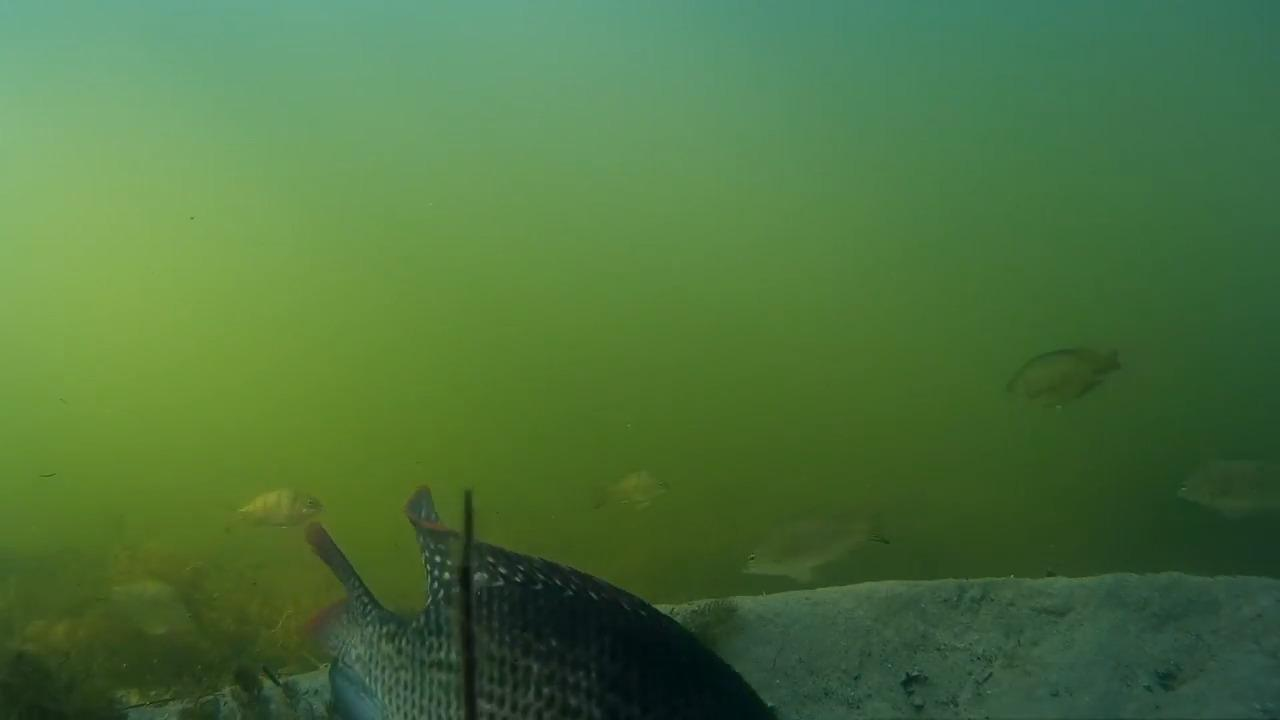Tilapia: (281, 452, 780, 720), (991, 324, 1140, 422), (725, 506, 904, 578), (1161, 452, 1280, 532), (557, 456, 672, 520), (225, 470, 318, 526)
